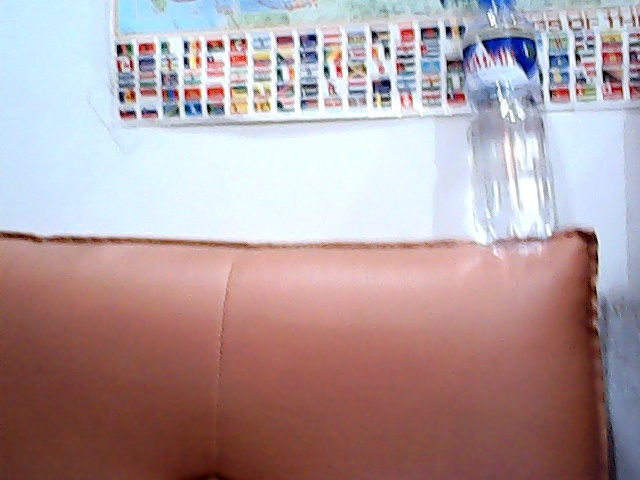Summit Water: (459, 1, 573, 240)
